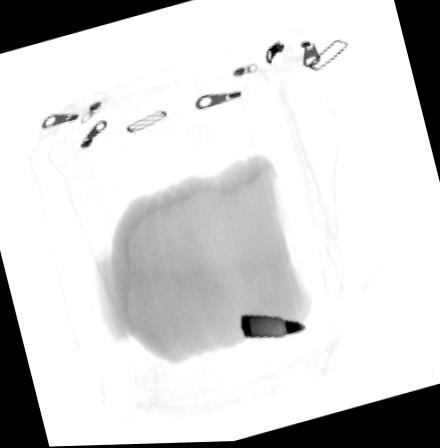Bullet: (240, 314, 309, 339)
